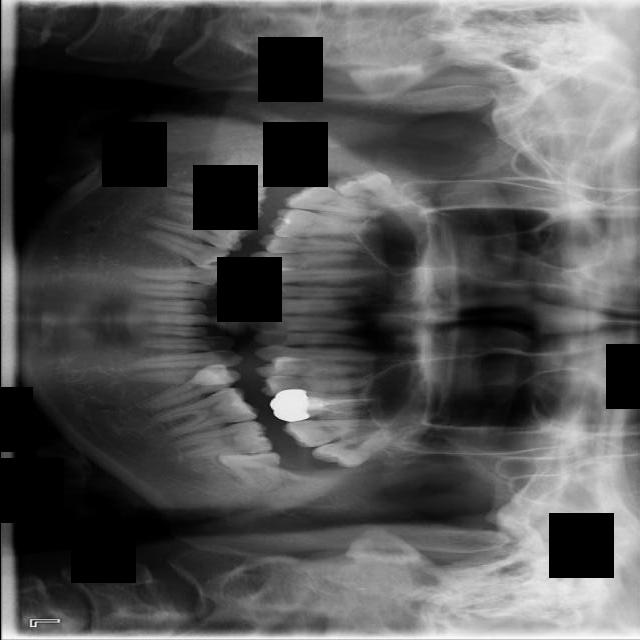3M ESPE Implant: (330, 159, 431, 221)
52: (268, 389, 309, 422)
73: (304, 389, 382, 420), (18, 620, 28, 626)
BioHorizons Implant: (281, 417, 388, 448)
BioLife Implant: (311, 425, 403, 476)
Biomet 3i Implant: (217, 451, 283, 494)
Blue Sky Bio Implant: (171, 419, 274, 461)
Caries: (280, 180, 388, 221)
Implant: (163, 180, 267, 221)
Keystone Dental Implant: (207, 149, 269, 192)
